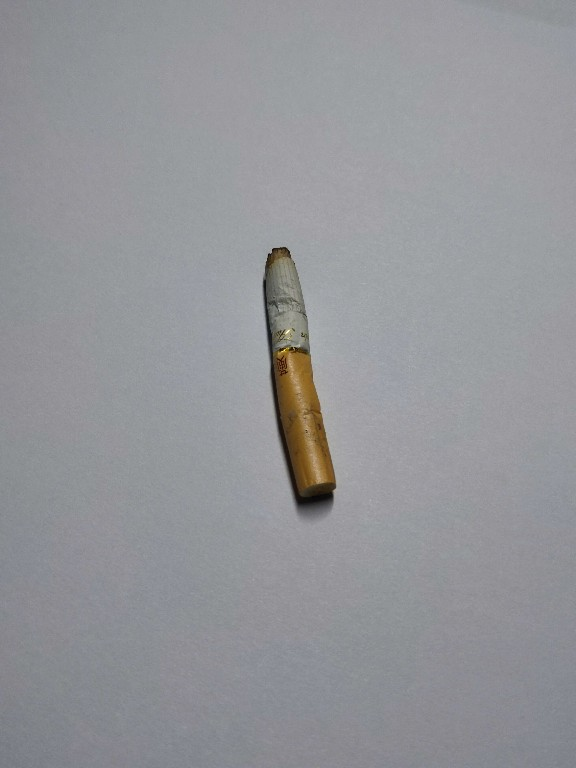cigarette: (259, 239, 342, 509)
